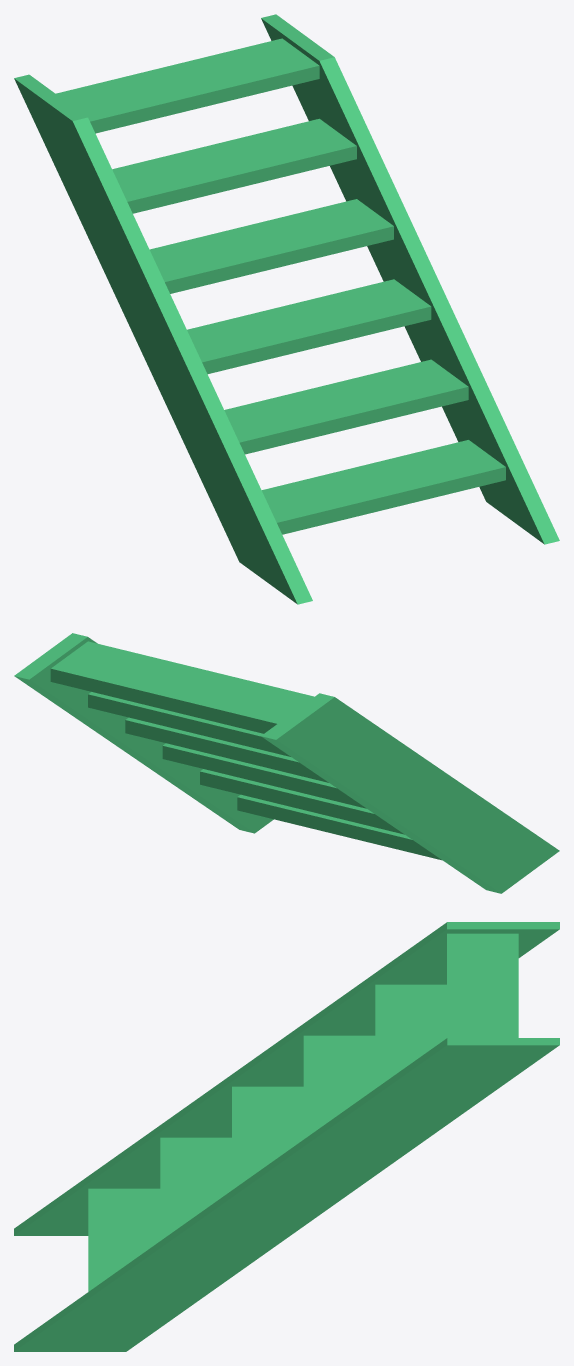
Rendered from Stairs_063.glb.
3 views of the same model, one above another, from view 1: azimuth 30°, elevation 25°; view 2: azimuth 150°, elevation 25°; view 3: azimuth 270°, elevation 25° (orthographic). The views are drawn at different scales.
Visible parts, largest first — view 1: Stairs_063; view 2: Stairs_063; view 3: Stairs_063.
Boxes of the visible parts, bbox=[...] form: Stairs_063: bbox=[14, 14, 559, 604]; Stairs_063: bbox=[14, 633, 559, 893]; Stairs_063: bbox=[14, 922, 559, 1351].
Bounding box in the file's own units: 1.72 × 2 × 3.23.
1 material, 1 textured.
